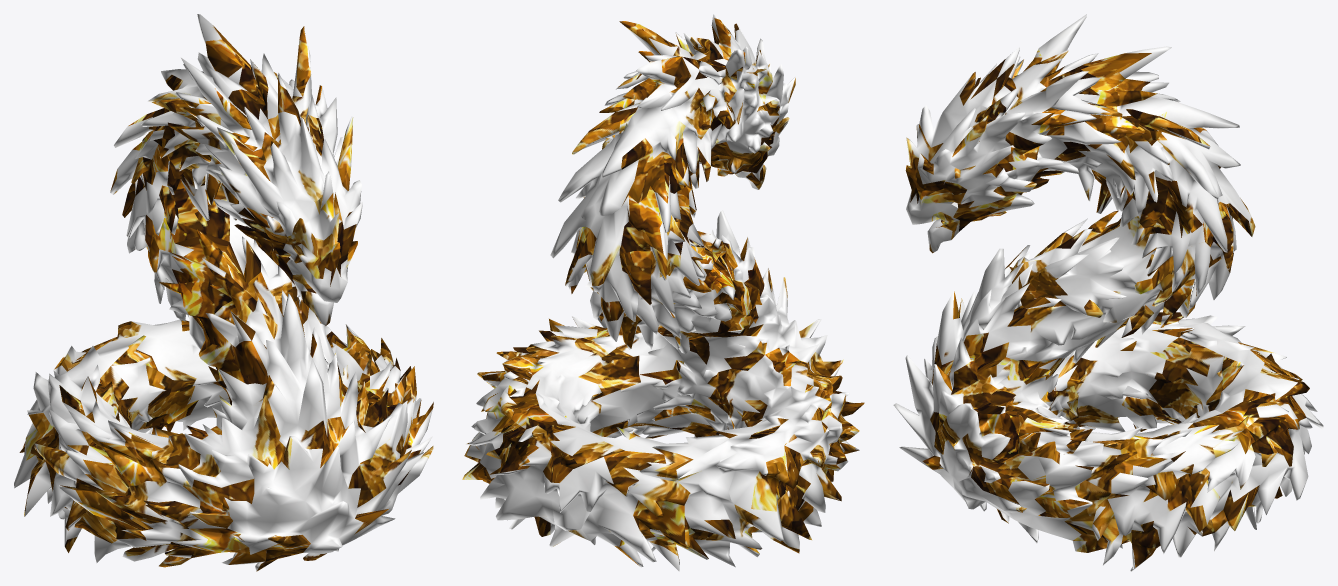
Rendered from black_ice_leviathan_gold_10k.fbx.
3 renders of one model, left to right at view 1: azimuth 30°, elevation 25°; view 2: azimuth 150°, elevation 25°; view 3: azimuth 270°, elevation 25°, orthographic. The views are drawn at different scales.
Visible parts, largest first — view 1: black_ice_leviathan_gold_decimated; view 2: black_ice_leviathan_gold_decimated; view 3: black_ice_leviathan_gold_decimated.
Boxes of the visible parts, <box> form: black_ice_leviathan_gold_decimated: <box>14,14,433,571</box>; black_ice_leviathan_gold_decimated: <box>462,14,864,571</box>; black_ice_leviathan_gold_decimated: <box>893,14,1323,571</box>.
Size of the model in its own units: 1.46 by 1.91 by 1.61.
